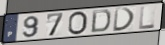7: (46, 11, 65, 38)
9: (23, 14, 41, 38)
D: (112, 7, 137, 33), (89, 9, 112, 34)
L: (138, 5, 156, 31)
O: (67, 10, 89, 36)
